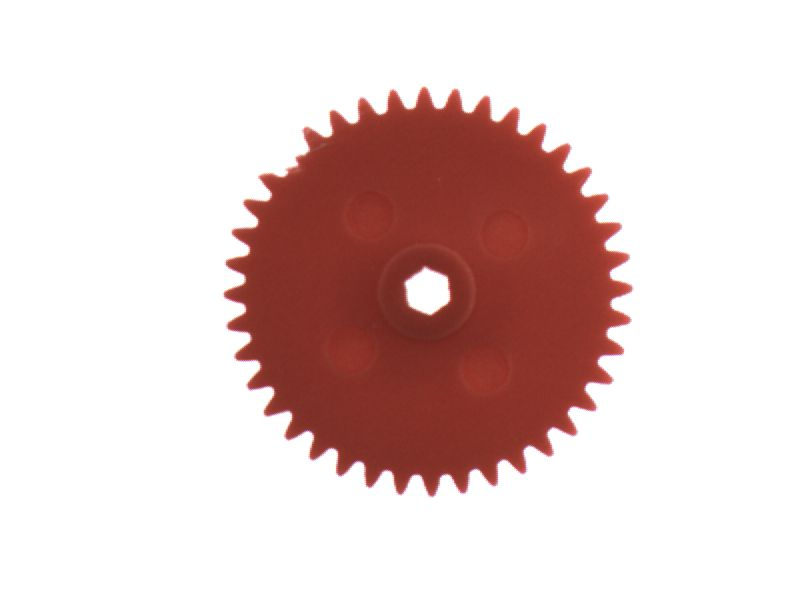defect_lack: (263, 132, 318, 181)
